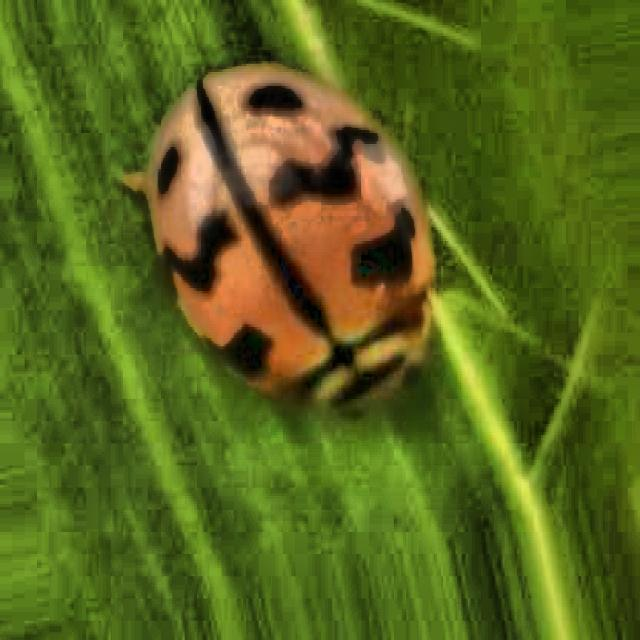Asian-Lady-beetle: (102, 16, 457, 457)
